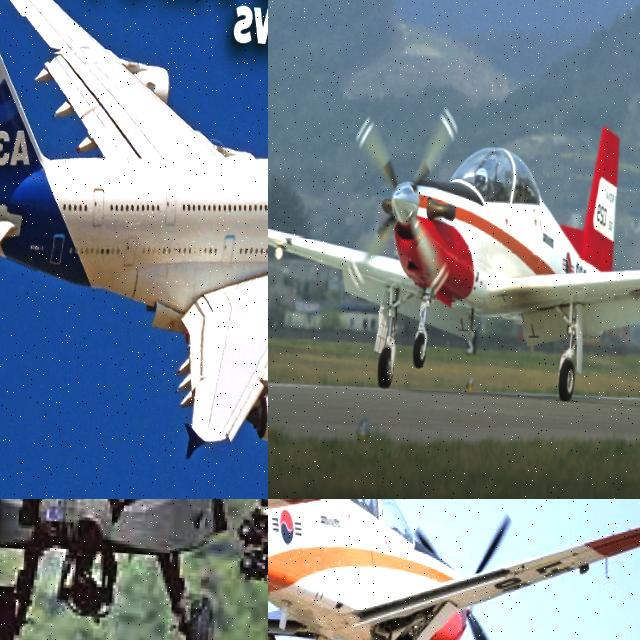A380: (0, 0, 268, 461)
Apache: (0, 499, 268, 640)
KT-1: (268, 85, 640, 413), (268, 499, 640, 640)
